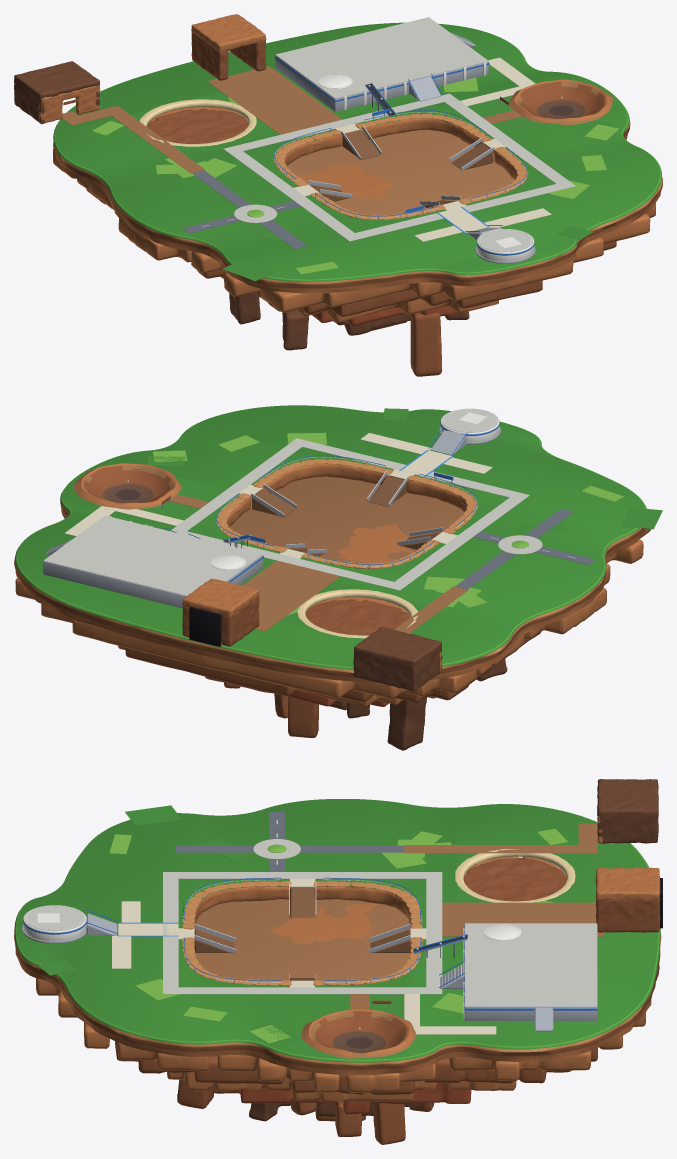
Rendered from dragonball_map.fbx.
3 renders of one model, top to bottom at view 1: azimuth 30°, elevation 25°; view 2: azimuth 150°, elevation 25°; view 3: azimuth 270°, elevation 25°, orthographic. The views are drawn at different scales.
Parts seen in each view (by area): view 1: G_DRAGONBALL_TERRAIN_Terreno__pal, G_DRAGONBALL_TERRAIN_Caminhos__pal, G_DRAGONBALL_TERRAIN_BaseDaIlha__pal~0~0, G_DRAGONBALL_LANDMARKS_Complexo__pal, G_DRAGONBALL_MINING_Pedreira_Energetica__pal~0~1, G_DRAGONBALL_TERRAIN_Manchas__pal, G_DRAGONBALL_TERRAIN_Agua__pal, G_DRAGONBALL_MINING_Caverna_Ki__pal, G_DRAGONBALL_MINING_Cratera__pal, G_DRAGONBALL_MINING_Mina_Capsule__pal, G_DRAGONBALL_TERRAIN_BaseDaIlha__pal~1~0, G_DRAGONBALL_MINING_Pedreira_Energetica__pal~1~0 (+3 smaller); view 2: G_DRAGONBALL_TERRAIN_Terreno__pal, G_DRAGONBALL_TERRAIN_Caminhos__pal, G_DRAGONBALL_MINING_Pedreira_Energetica__pal~0~1, G_DRAGONBALL_LANDMARKS_Complexo__pal, G_DRAGONBALL_TERRAIN_BaseDaIlha__pal~0~1, G_DRAGONBALL_MINING_Caverna_Ki__pal, G_DRAGONBALL_MINING_Mina_Capsule__pal, G_DRAGONBALL_TERRAIN_Agua__pal, G_DRAGONBALL_MINING_Cratera__pal, G_DRAGONBALL_TERRAIN_Manchas__pal, G_DRAGONBALL_TERRAIN_BaseDaIlha__pal~1~1, G_DRAGONBALL_TERRAIN_BaseDaIlha__pal~0~0 (+3 smaller); view 3: G_DRAGONBALL_TERRAIN_Terreno__pal, G_DRAGONBALL_TERRAIN_Caminhos__pal, G_DRAGONBALL_LANDMARKS_Complexo__pal, G_DRAGONBALL_MINING_Pedreira_Energetica__pal~0~1, G_DRAGONBALL_TERRAIN_BaseDaIlha__pal~1~0, G_DRAGONBALL_TERRAIN_BaseDaIlha__pal~1~1, G_DRAGONBALL_TERRAIN_Manchas__pal, G_DRAGONBALL_TERRAIN_Agua__pal, G_DRAGONBALL_MINING_Cratera__pal, G_DRAGONBALL_MINING_Mina_Capsule__pal, G_DRAGONBALL_MINING_Caverna_Ki__pal, G_DRAGONBALL_MINING_Pedreira_Energetica__pal~0~0 (+4 smaller).
Part boxes in pixels (box(x1,y1,x2,y2)): G_DRAGONBALL_TERRAIN_Terreno__pal: box(53, 22, 662, 293); G_DRAGONBALL_TERRAIN_Caminhos__pal: box(62, 57, 575, 263); G_DRAGONBALL_TERRAIN_BaseDaIlha__pal~0~0: box(134, 171, 512, 376); G_DRAGONBALL_LANDMARKS_Complexo__pal: box(274, 17, 489, 111); G_DRAGONBALL_MINING_Pedreira_Energetica__pal~0~1: box(287, 129, 527, 215); G_DRAGONBALL_TERRAIN_Manchas__pal: box(92, 77, 619, 281); G_DRAGONBALL_TERRAIN_Agua__pal: box(139, 99, 256, 146); G_DRAGONBALL_MINING_Caverna_Ki__pal: box(14, 61, 100, 124); G_DRAGONBALL_MINING_Cratera__pal: box(500, 79, 613, 125); G_DRAGONBALL_MINING_Mina_Capsule__pal: box(191, 14, 266, 80); G_DRAGONBALL_TERRAIN_BaseDaIlha__pal~1~0: box(359, 153, 655, 357); G_DRAGONBALL_MINING_Pedreira_Energetica__pal~1~0: box(274, 113, 383, 182); G_DRAGONBALL_TERRAIN_Terreno__pal: box(14, 405, 646, 682); G_DRAGONBALL_TERRAIN_Caminhos__pal: box(64, 408, 595, 633); G_DRAGONBALL_MINING_Pedreira_Energetica__pal~0~1: box(229, 455, 464, 563); G_DRAGONBALL_LANDMARKS_Complexo__pal: box(42, 515, 263, 608); G_DRAGONBALL_TERRAIN_BaseDaIlha__pal~0~1: box(201, 548, 583, 750); G_DRAGONBALL_MINING_Caverna_Ki__pal: box(353, 627, 442, 691); G_DRAGONBALL_MINING_Mina_Capsule__pal: box(182, 578, 259, 646); G_DRAGONBALL_TERRAIN_Agua__pal: box(297, 589, 417, 638); G_DRAGONBALL_MINING_Cratera__pal: box(74, 463, 181, 509); G_DRAGONBALL_TERRAIN_Manchas__pal: box(144, 408, 662, 615); G_DRAGONBALL_TERRAIN_BaseDaIlha__pal~1~1: box(15, 547, 349, 718); G_DRAGONBALL_TERRAIN_BaseDaIlha__pal~0~0: box(348, 524, 651, 681); G_DRAGONBALL_TERRAIN_Terreno__pal: box(14, 799, 661, 1075); G_DRAGONBALL_TERRAIN_Caminhos__pal: box(22, 811, 604, 1034); G_DRAGONBALL_LANDMARKS_Complexo__pal: box(439, 923, 597, 1031); G_DRAGONBALL_MINING_Pedreira_Energetica__pal~0~1: box(182, 900, 410, 986); G_DRAGONBALL_TERRAIN_BaseDaIlha__pal~1~0: box(36, 935, 348, 1136); G_DRAGONBALL_TERRAIN_BaseDaIlha__pal~1~1: box(340, 936, 645, 1144); G_DRAGONBALL_TERRAIN_Manchas__pal: box(39, 805, 567, 1043); G_DRAGONBALL_TERRAIN_Agua__pal: box(455, 849, 575, 902); G_DRAGONBALL_MINING_Cratera__pal: box(301, 1000, 416, 1058); G_DRAGONBALL_MINING_Mina_Capsule__pal: box(595, 867, 662, 932); G_DRAGONBALL_MINING_Caverna_Ki__pal: box(597, 779, 658, 843); G_DRAGONBALL_MINING_Pedreira_Energetica__pal~0~0: box(182, 877, 324, 928).
Bounding box in the file's own units: 393 × 155 × 409.
4 materials, 1 textured.
